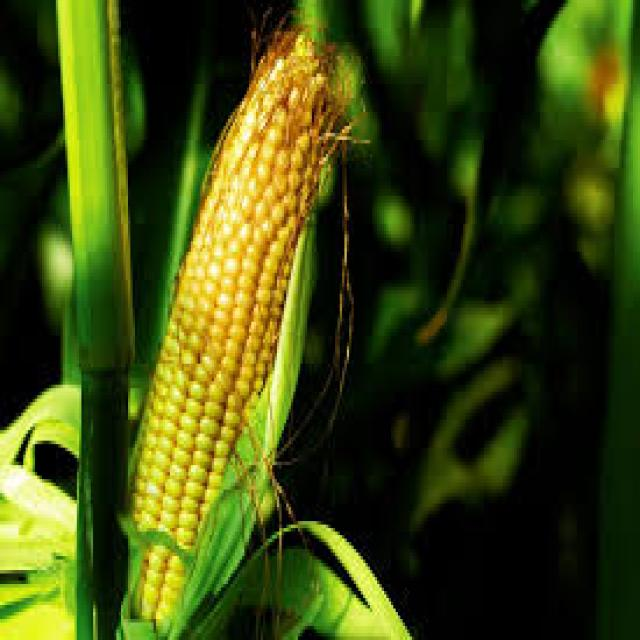purecorn: (110, 8, 388, 633)
